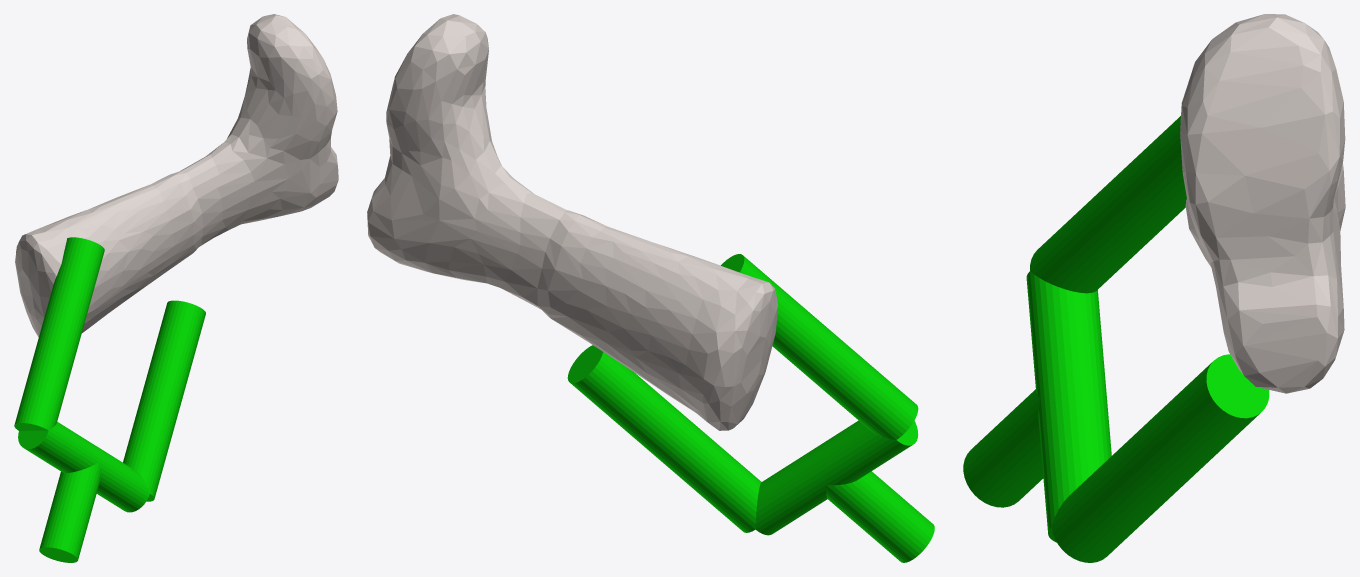
File: round_000_trial_005.obj
The picture shows the model from 3 angles, left to right: view 1: azimuth 30°, elevation 25°; view 2: azimuth 150°, elevation 25°; view 3: azimuth 270°, elevation 25°; orthographic projection. The views are drawn at different scales.
Parts seen in each view (by area): view 1: geometry_0, geometry_1; view 2: geometry_0, geometry_1; view 3: geometry_0, geometry_1.
Part boxes in pixels (x1=…): geometry_0: x1=15, y1=14, x2=338, y2=337; geometry_1: x1=14, y1=237, x2=205, y2=562; geometry_0: x1=367, y1=14, x2=778, y2=430; geometry_1: x1=567, y1=254, x2=934, y2=562; geometry_0: x1=1180, y1=14, x2=1345, y2=393; geometry_1: x1=963, y1=116, x2=1269, y2=562.
Size of the model in its own units: 0.1064 by 0.1152 by 0.0543.
